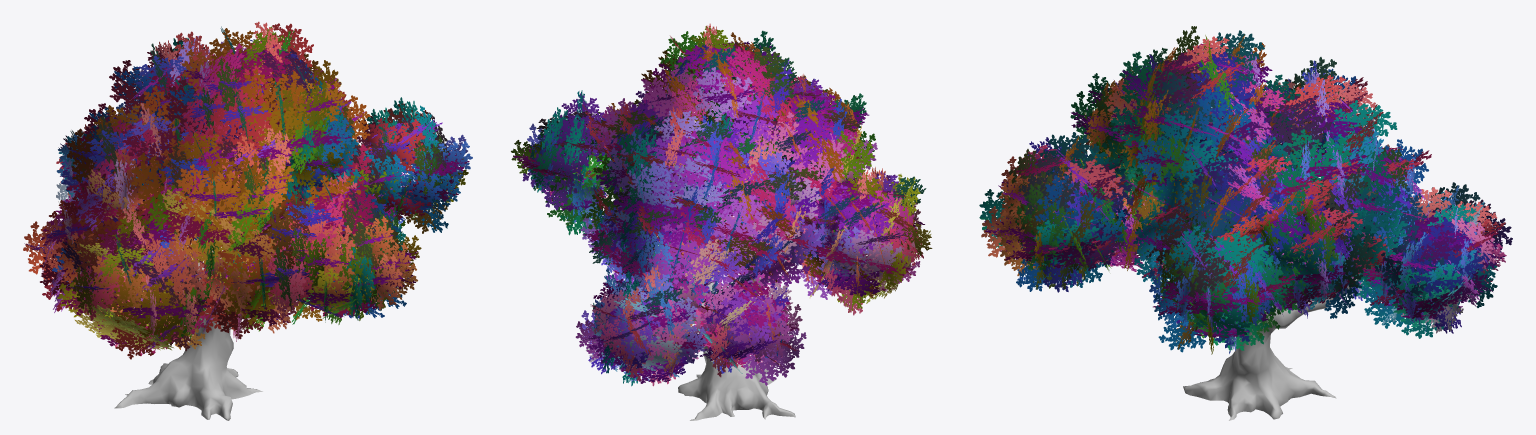
Rendered from shu01.fbx.
The picture shows the model from 3 angles, left to right: view 1: azimuth 30°, elevation 25°; view 2: azimuth 150°, elevation 25°; view 3: azimuth 270°, elevation 25°; orthographic projection. The views are drawn at different scales.
Parts seen in each view (by area): view 1: shu01_yezi_LOD0, shu01_shugan_LOD0; view 2: shu01_yezi_LOD0, shu01_shugan_LOD0; view 3: shu01_yezi_LOD0, shu01_shugan_LOD0.
Boxes of the visible parts, bbox=[...] form: shu01_yezi_LOD0: bbox=[23, 21, 472, 359]; shu01_shugan_LOD0: bbox=[114, 247, 262, 420]; shu01_yezi_LOD0: bbox=[511, 23, 932, 386]; shu01_shugan_LOD0: bbox=[595, 184, 795, 420]; shu01_yezi_LOD0: bbox=[979, 26, 1512, 354]; shu01_shugan_LOD0: bbox=[1183, 275, 1359, 420].
Size of the model in its own units: 2745 by 2315 by 2990.
